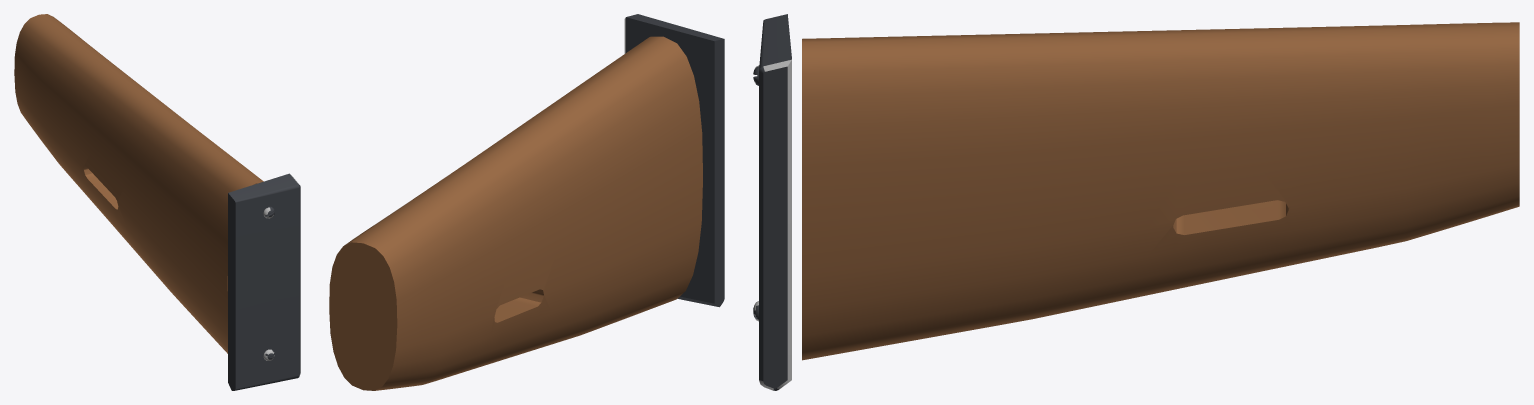
File: stock_mosin.glb
3 views of the same model, side by side, from view 1: azimuth 30°, elevation 25°; view 2: azimuth 150°, elevation 25°; view 3: azimuth 270°, elevation 25° (orthographic). The views are drawn at different scales.
Visible parts, largest first — view 1: static_butt.001; view 2: static_butt.001; view 3: static_butt.001.
Boxes of the visible parts, bbox=[...] form: static_butt.001: bbox=[14, 14, 300, 390]; static_butt.001: bbox=[329, 14, 724, 390]; static_butt.001: bbox=[753, 14, 1519, 390].
Size of the model in its own units: 0.043 by 0.1298 by 0.2654.
